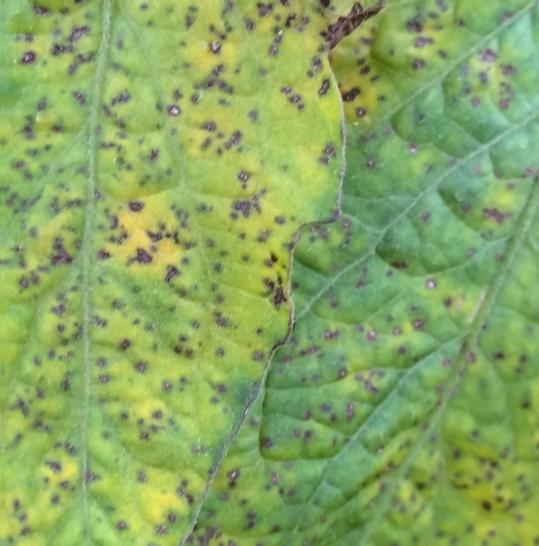Tomato Septoria leaf spot: (163, 0, 539, 546), (0, 0, 346, 546)
